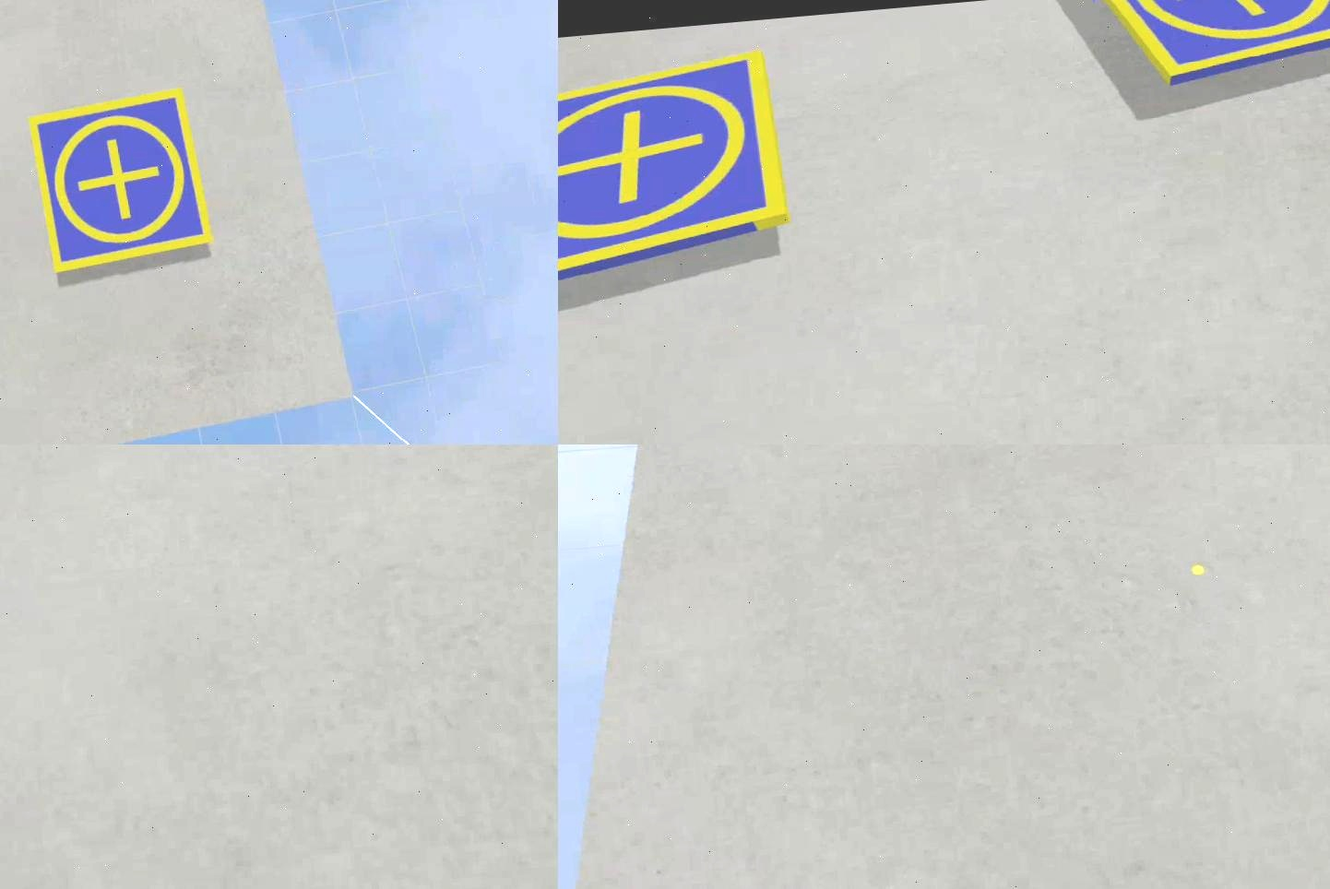small_base: (558, 49, 795, 291), (27, 86, 219, 282), (1094, 1, 1330, 91)
